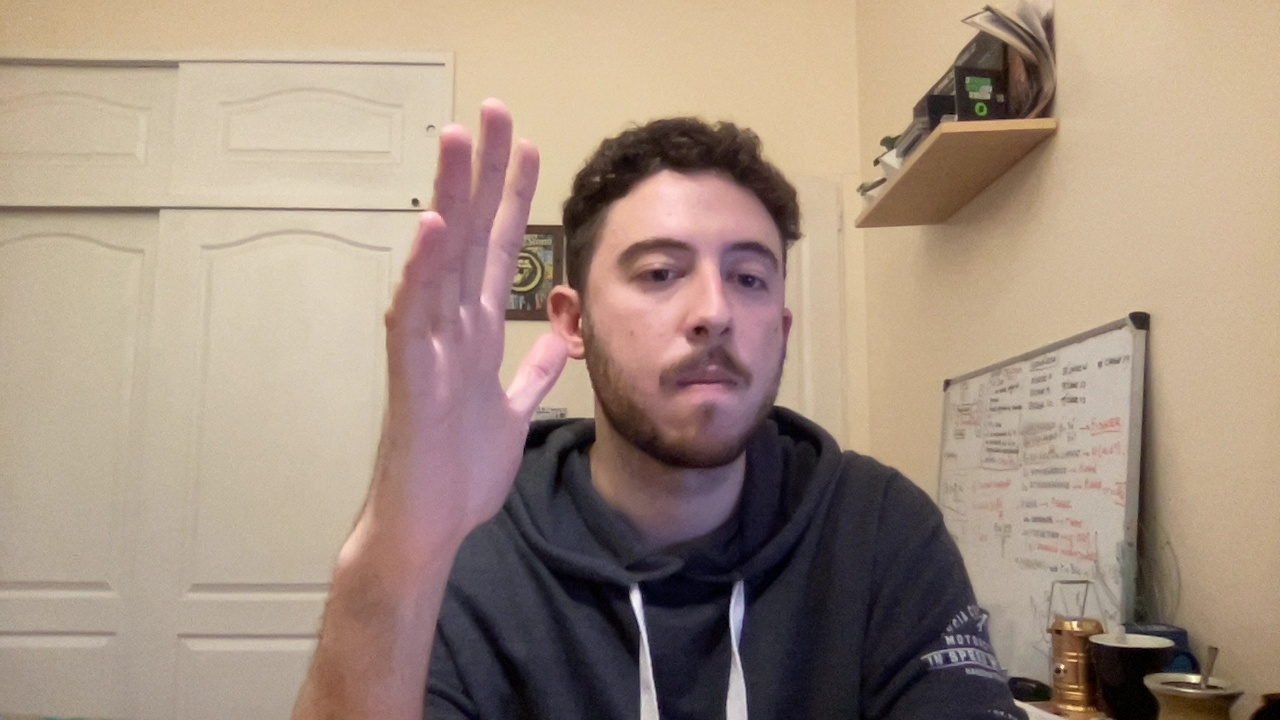abierto: (332, 81, 596, 553)
